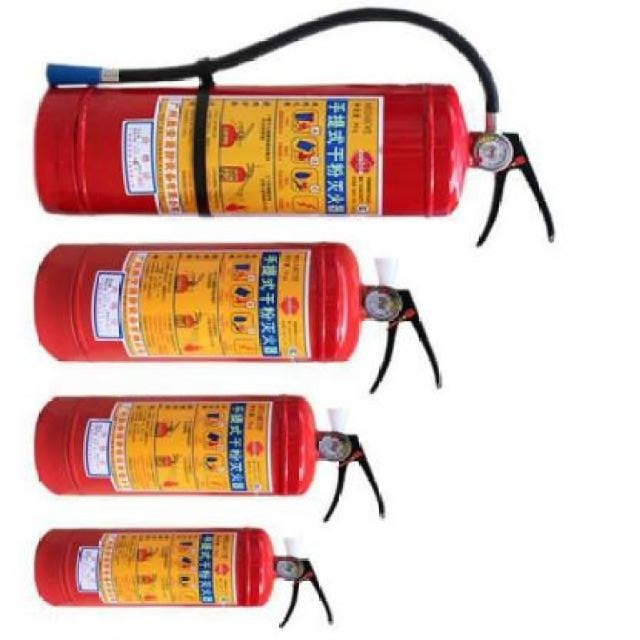fire extinguisher: (34, 6, 557, 249), (33, 240, 444, 395), (32, 395, 385, 522), (34, 525, 334, 630)
